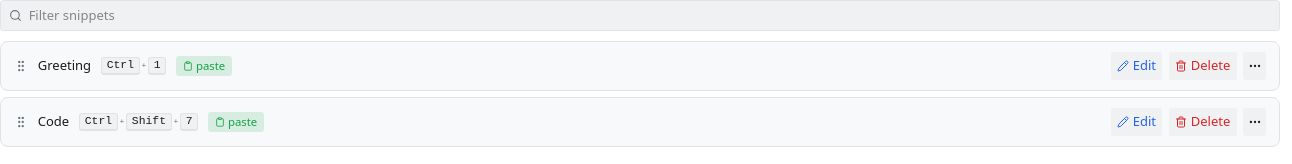
Scenario: list filters › filters text snippets by title, body, or hotkey and disables reordering
Check: the button with test id "drag-handle-a" is shown, box [14, 59, 28, 73]
In the search field with test id "list-filter": (650, 16) [29, 6, 1271, 25], type "hello"
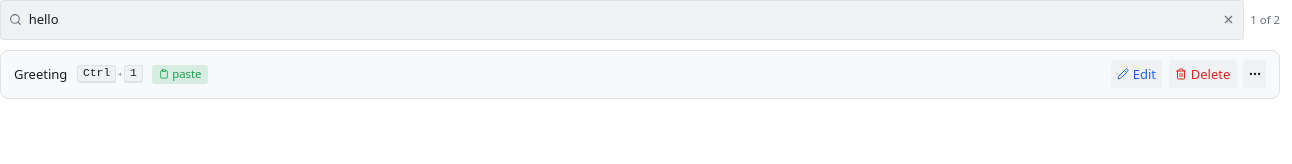
Check: the element with test id "snippet-b" is gone
Check: the button with test id "drag-handle-a" is gone
Check: the text with test id "list-filter-count" reads "1 of 2", box [1250, 12, 1280, 28]
Replace the text in the search field with test id "list-filter" with "shift+7": (622, 20) [29, 10, 1215, 30]
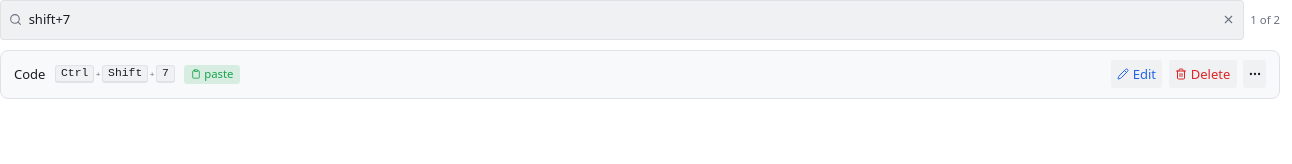
Check: the element with test id "snippet-b" is shown, box [0, 50, 1280, 99]
Check: the element with test id "snippet-a" is gone
